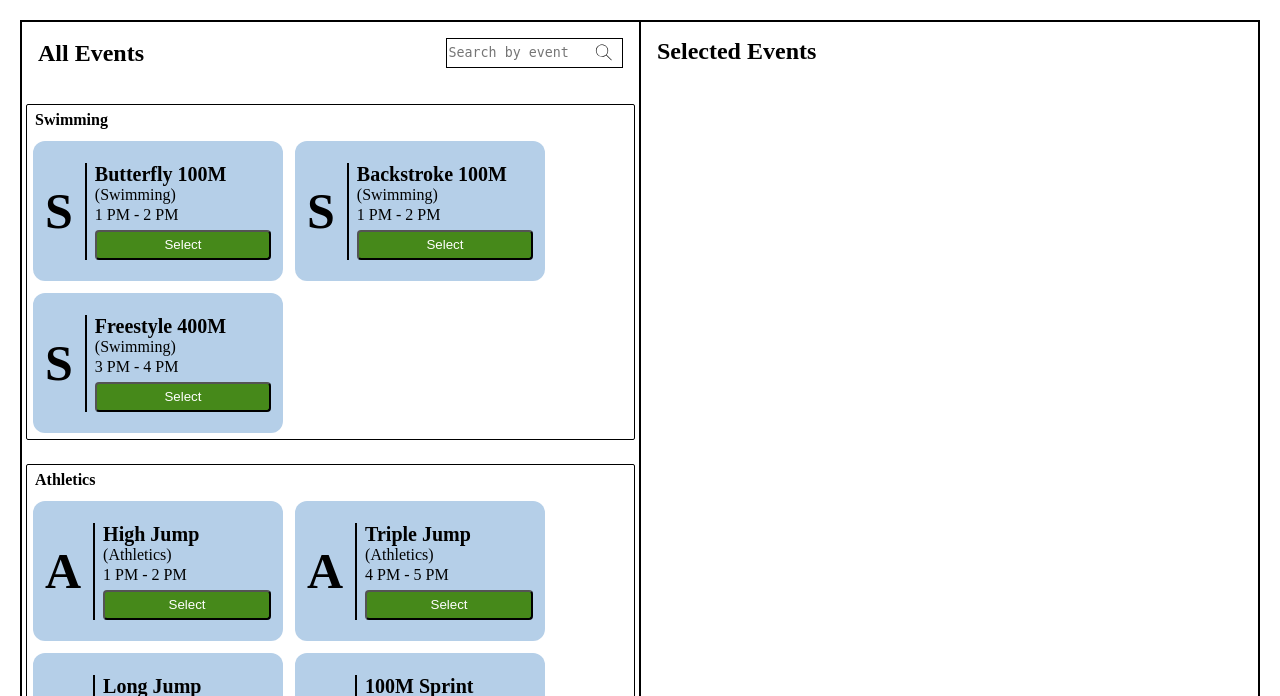
it: Events › checks if able to select events and selected events are getting removed from All events
Click the button with test id "event-action-1" at (183, 245), box [95,230,271,260]
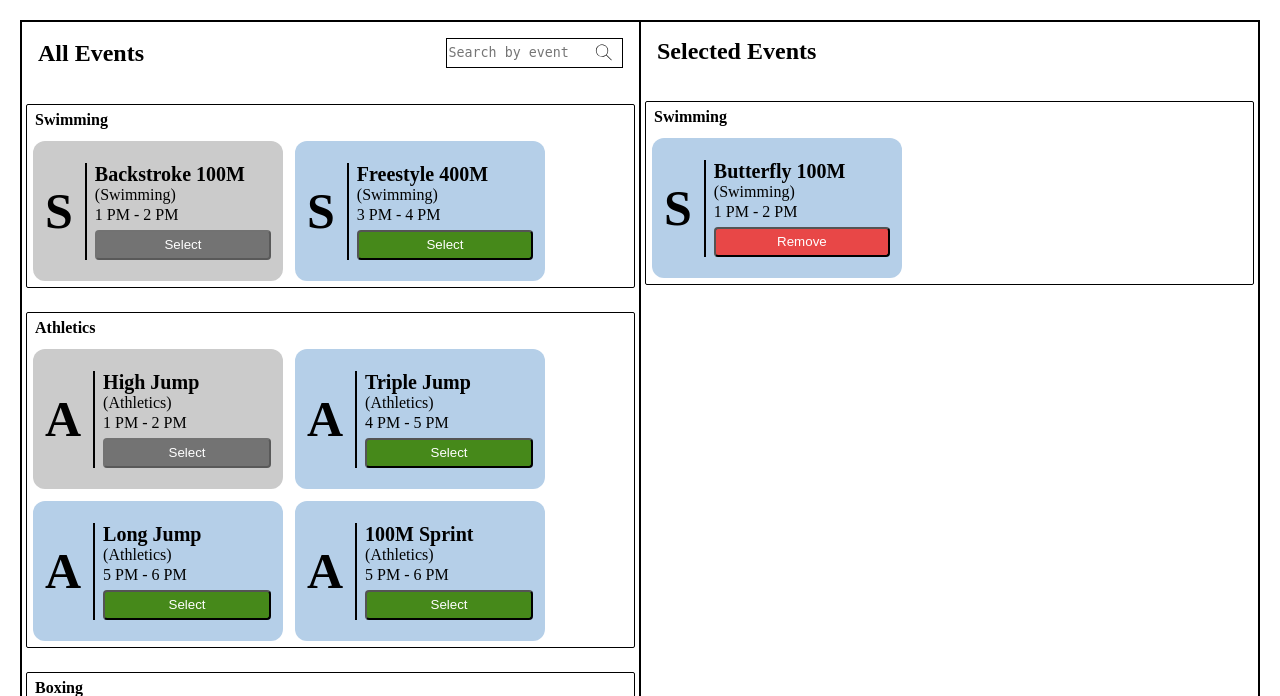
Result: the number of elements with test id "event-card" is 9
Result: the number of elements with test id "event-card-selected" is 1 at [652,138,902,278]
